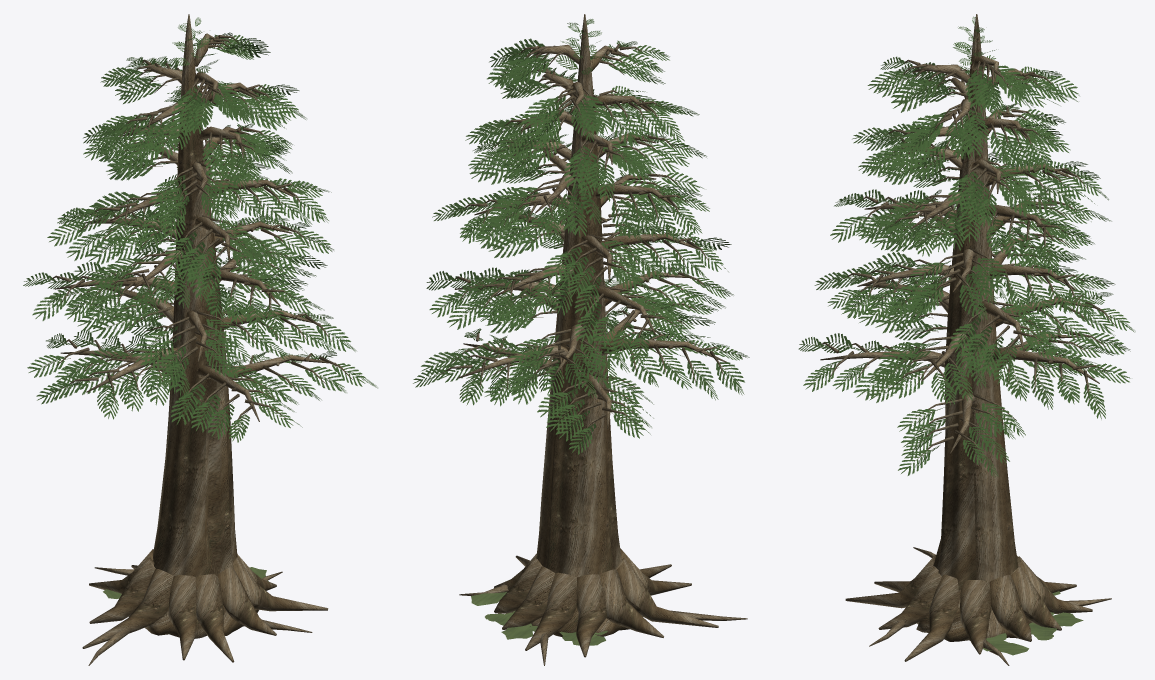
Rendered from sacred_cedar_tree.glb.
The picture shows the model from 3 angles, left to right: view 1: azimuth 30°, elevation 25°; view 2: azimuth 150°, elevation 25°; view 3: azimuth 270°, elevation 25°; orthographic projection.
Visible parts, largest first — view 1: cedar_fine_needle_spray_surface, cedar_weathered_bark_surface; view 2: cedar_fine_needle_spray_surface, cedar_weathered_bark_surface, cedar_shade_moss_surface; view 3: cedar_fine_needle_spray_surface, cedar_weathered_bark_surface, cedar_shade_moss_surface.
Part boxes in pixels (x1,y1,x2,y2): cedar_fine_needle_spray_surface: (23, 17, 377, 442); cedar_weathered_bark_surface: (52, 14, 352, 665); cedar_fine_needle_spray_surface: (413, 19, 749, 454); cedar_weathered_bark_surface: (441, 14, 747, 665); cedar_shade_moss_surface: (471, 592, 607, 645); cedar_fine_needle_spray_surface: (798, 16, 1135, 477); cedar_weathered_bark_surface: (820, 14, 1115, 665); cedar_shade_moss_surface: (983, 591, 1083, 655).
Bounding box in the file's own units: 5.73 × 10 × 5.35.
3 materials, 3 textured.
